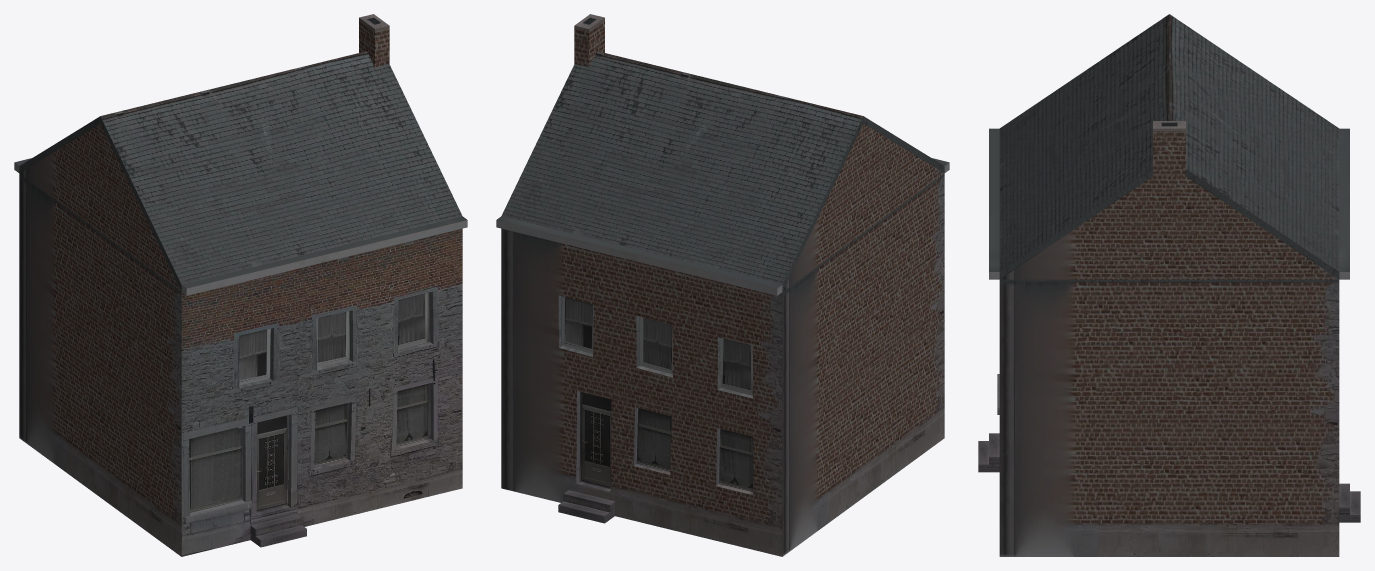
Rendered from feluy.glb.
3 views of the same model, side by side, from view 1: azimuth 30°, elevation 25°; view 2: azimuth 150°, elevation 25°; view 3: azimuth 270°, elevation 25° (orthographic). The views are drawn at different scales.
Visible parts, largest first — view 1: Cube_Material.001_0; view 2: Cube_Material.001_0; view 3: Cube_Material.001_0.
Boxes of the visible parts, box(x1,y1,x2,y2) form: Cube_Material.001_0: box(14, 14, 467, 556); Cube_Material.001_0: box(496, 14, 949, 556); Cube_Material.001_0: box(978, 14, 1360, 556).
Size of the model in its own units: 8 by 11.14 by 9.
1 material, 1 textured.
